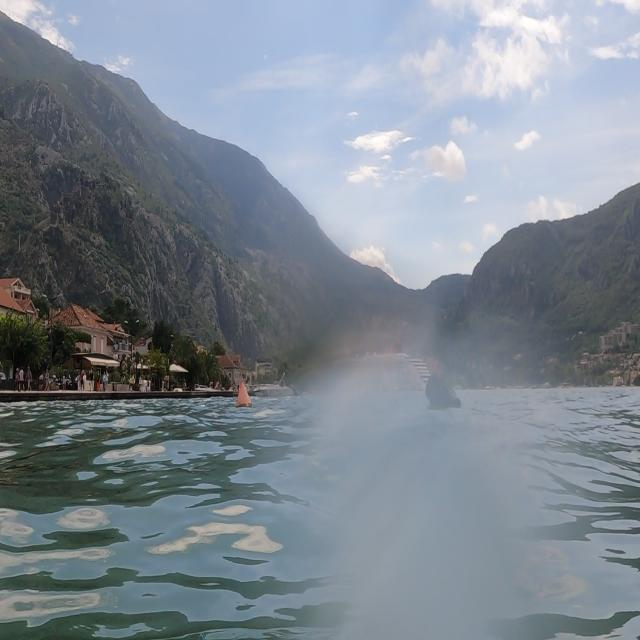buoy: (419, 361, 468, 419), (232, 375, 255, 415)
